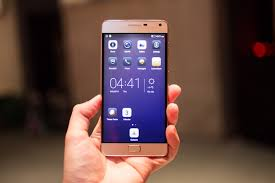lenovo: (100, 14, 171, 160)
